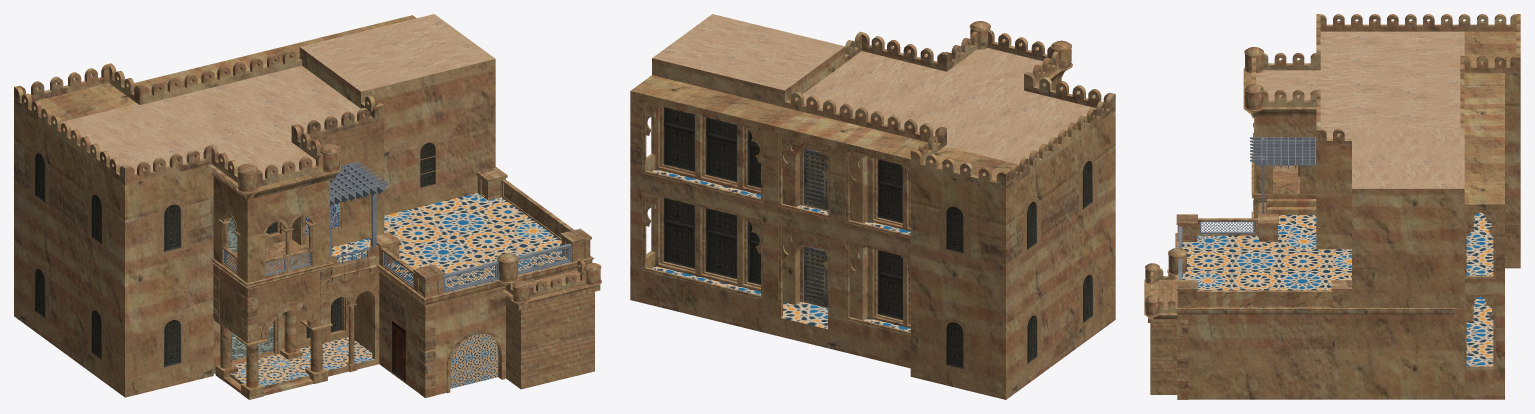
File: build10a.gltf
3 views of the same model, side by side, from view 1: azimuth 30°, elevation 25°; view 2: azimuth 150°, elevation 25°; view 3: azimuth 270°, elevation 25° (orthographic). The views are drawn at different scales.
Visible parts, largest first — view 1: build10a; view 2: build10a; view 3: build10a.
Boxes of the visible parts, <box> form: build10a: <box>14,14,601,399</box>; build10a: <box>630,14,1115,399</box>; build10a: <box>1144,14,1520,399</box>.
Size of the model in its own units: 17.92 by 10.27 by 16.19.
Materials: 9 (9 with a texture image).
